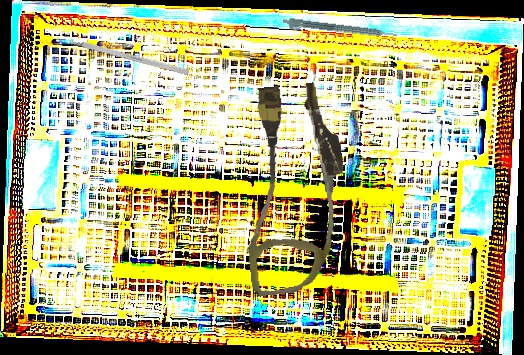Cannula: (231, 80, 356, 297)
Handpiece: (281, 17, 398, 44)
Hook Surgical: (56, 34, 190, 76)
